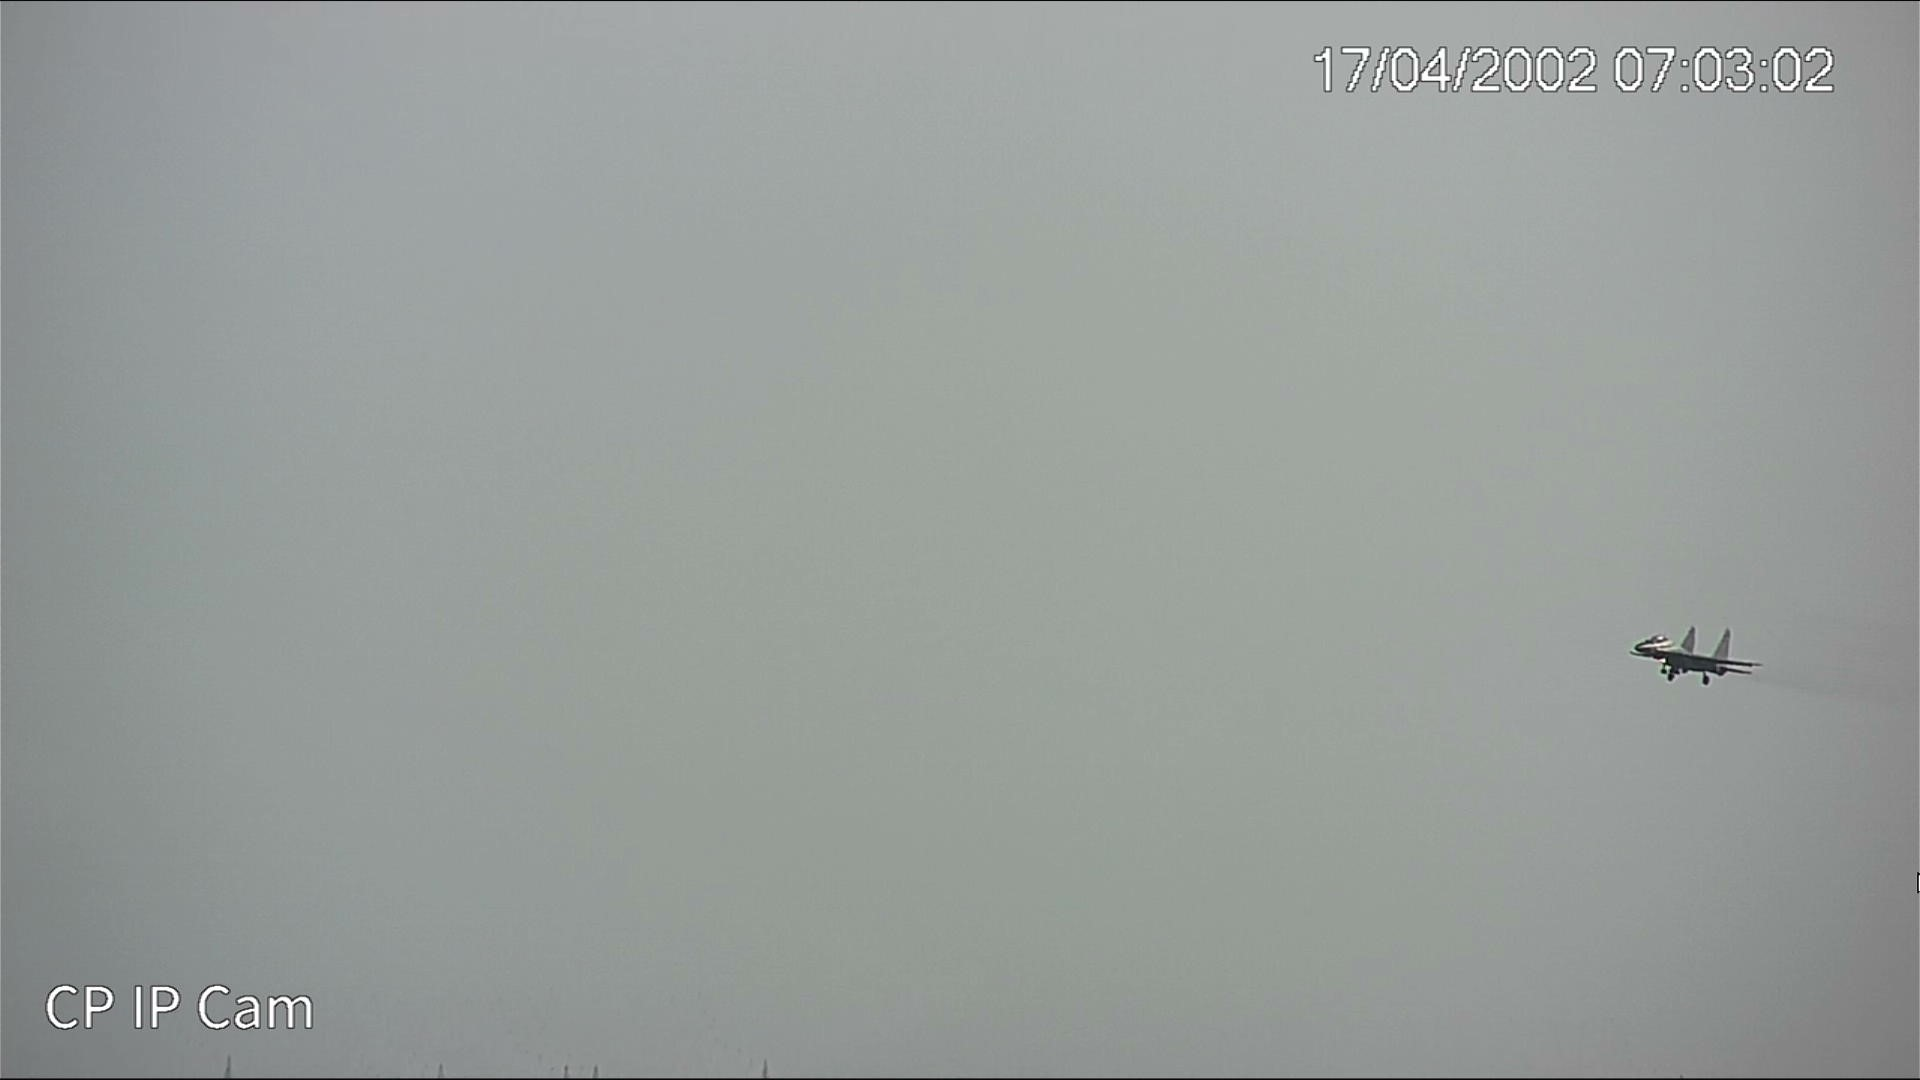SU_30: (1615, 624, 1774, 688)
